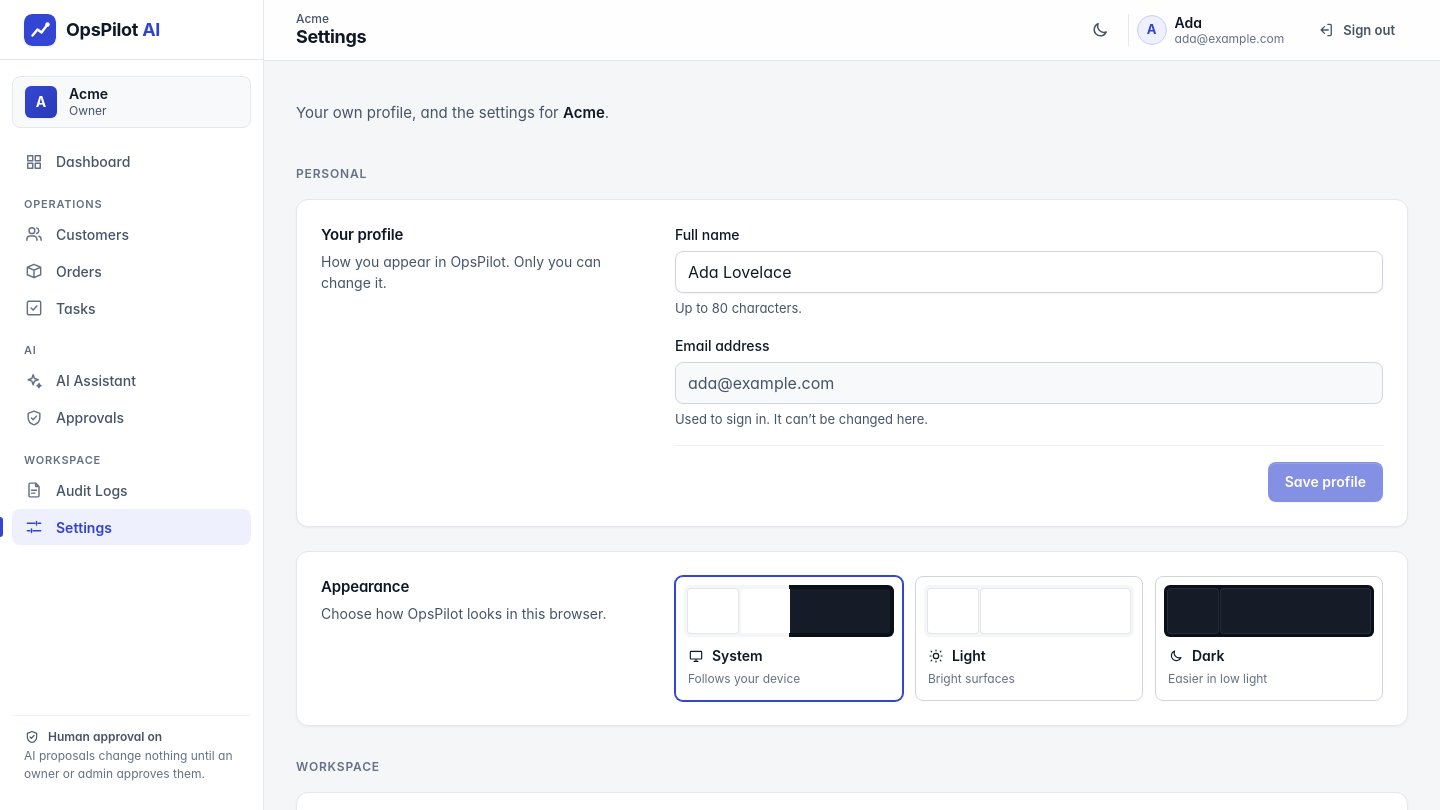
Test case: theme › switches from the header and remembers the choice in this browser
Expected: the heading "Settings" is shown, [296,26,366,49]
What coordinates should you click on to do the following:
click the button named "Switch to dark theme"
I would click on:
 (1100, 30)
Its box is [1080,10,1120,50].
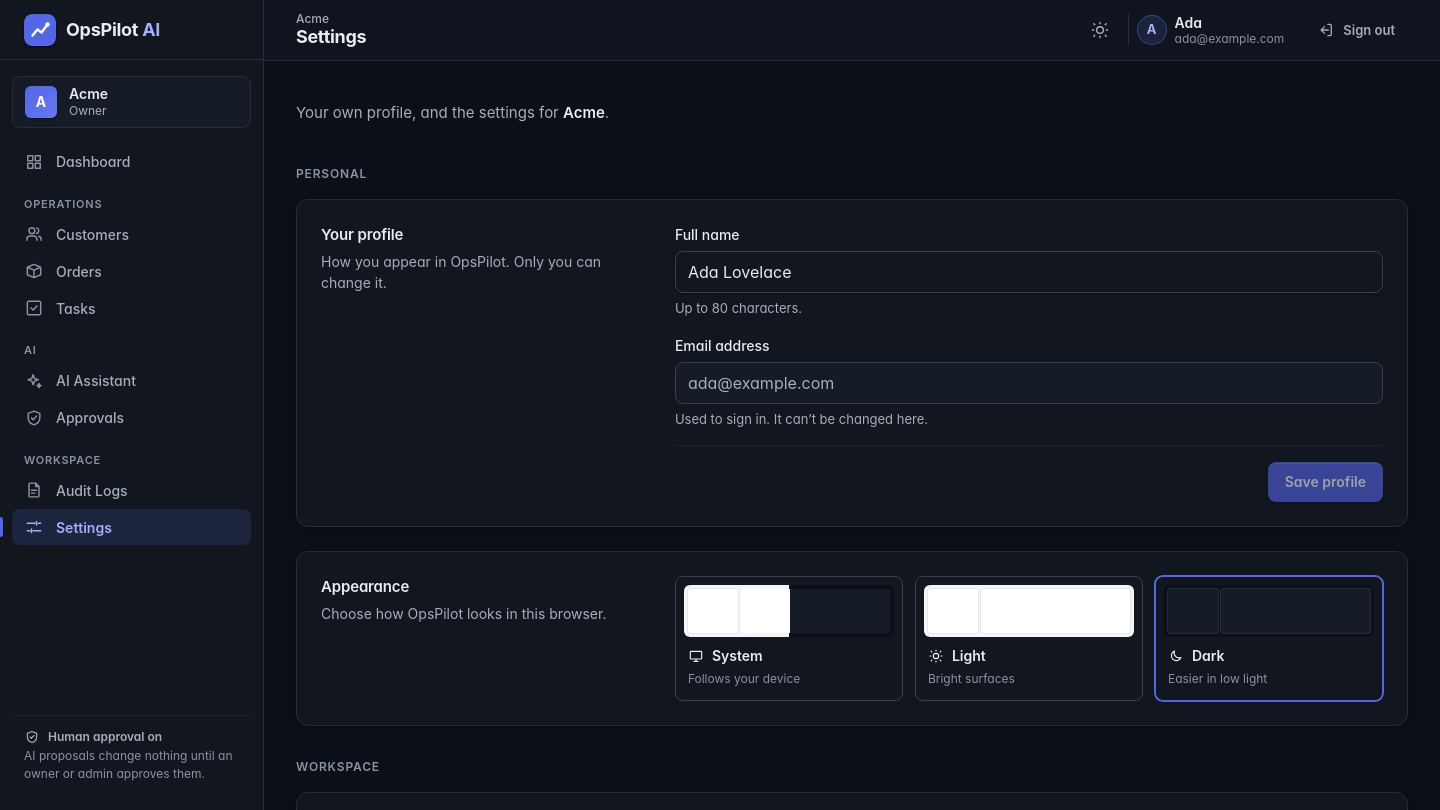
Expected: the button named "Switch to light theme" is shown, [1080,10,1120,50]
Expected: the radio button labelled "Dark Easier in low light" is checked, [1155,576,1383,701]
